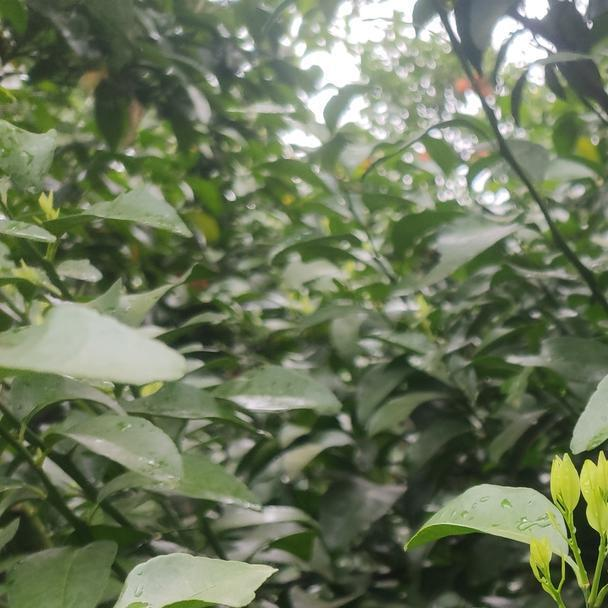shoot: (547, 456, 591, 567), (523, 536, 572, 607), (579, 456, 608, 567)
